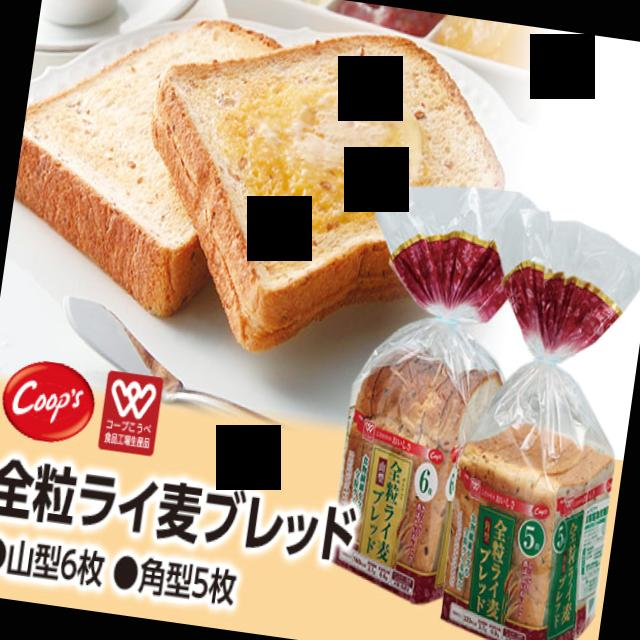bread: (440, 206, 640, 640), (332, 317, 503, 606), (375, 187, 524, 326)
